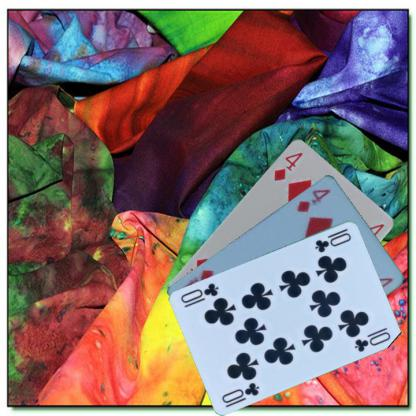10c: (219, 379, 261, 404), (312, 229, 353, 254)
4d: (271, 147, 304, 184), (294, 186, 332, 214)
